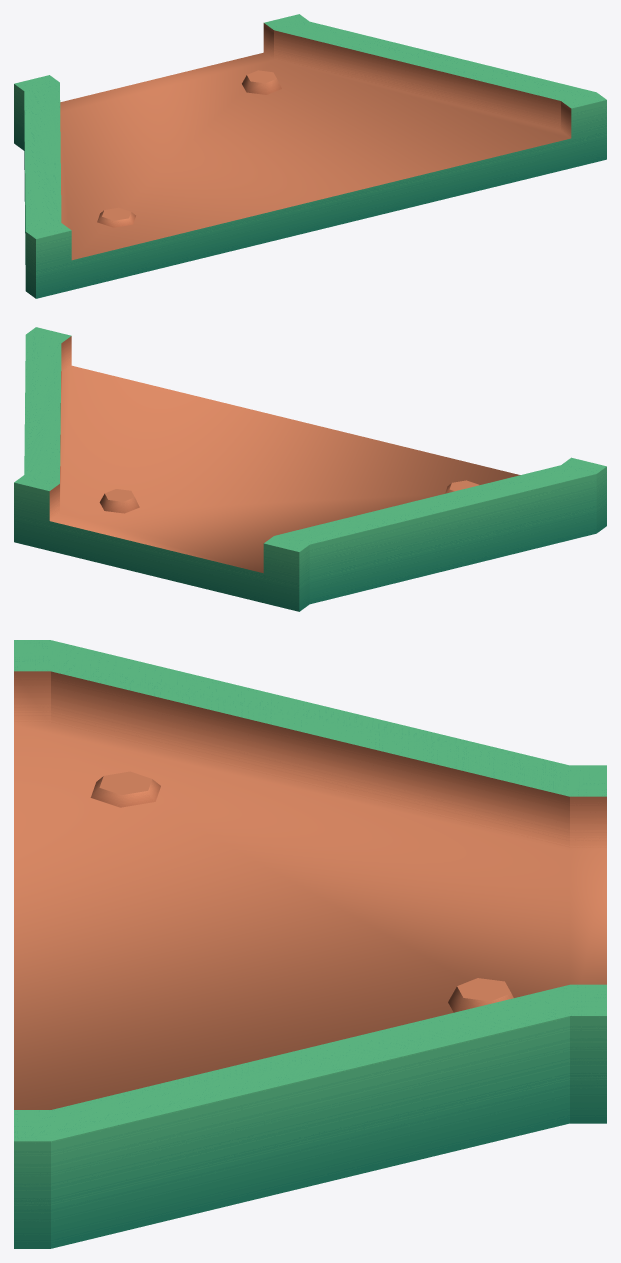
Rendered from tower-defense-kit--tile-wide-transition.glb.
3 renders of one model, top to bottom at view 1: azimuth 30°, elevation 25°; view 2: azimuth 150°, elevation 25°; view 3: azimuth 270°, elevation 25°, orthographic. The views are drawn at different scales.
Visible parts, largest first — view 1: tile-wide-transition; view 2: tile-wide-transition; view 3: tile-wide-transition.
Boxes of the visible parts, bbox=[...] form: tile-wide-transition: bbox=[14, 14, 606, 298]; tile-wide-transition: bbox=[14, 327, 606, 611]; tile-wide-transition: bbox=[14, 640, 606, 1248].
Bounding box in the file's own units: 2 × 0.2 × 1.
1 material, 1 textured.
